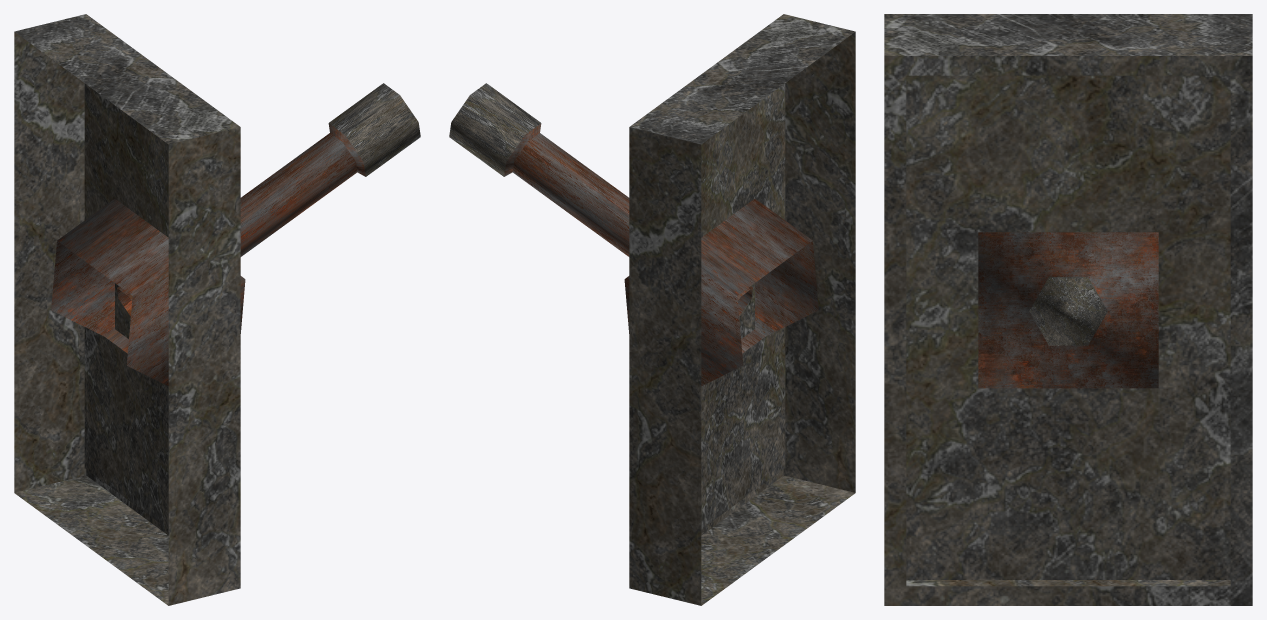
Rendered from lever_anim4.obj.
3 views of the same model, side by side, from view 1: azimuth 30°, elevation 25°; view 2: azimuth 150°, elevation 25°; view 3: azimuth 270°, elevation 25° (orthographic). The views are drawn at different scales.
Visible parts, largest first — view 1: Cube, Cylinder; view 2: Cube, Cylinder; view 3: Cube, Cylinder.
Boxes of the visible parts, x1,y1,x2,y2 form: Cube: [14, 14, 240, 605]; Cylinder: [51, 83, 420, 385]; Cube: [629, 14, 855, 605]; Cylinder: [449, 83, 818, 385]; Cube: [884, 14, 1252, 605]; Cylinder: [978, 232, 1158, 388].
Size of the model in its own units: 1.47 by 2 by 1.21.
2 materials, 2 textured.
